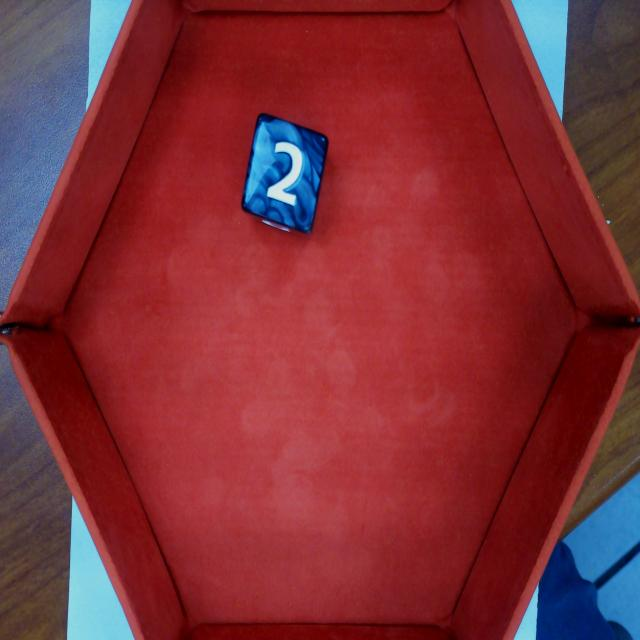dice: (239, 110, 331, 237)
